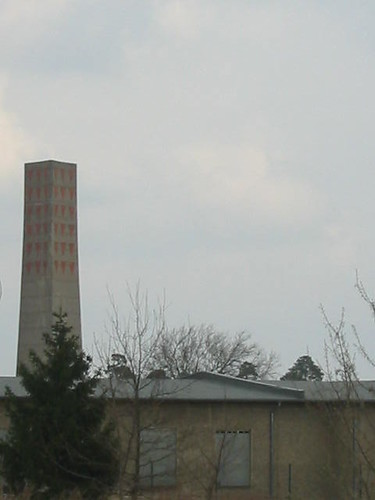building: (1, 372, 375, 500), (17, 151, 88, 380)
sky: (1, 1, 363, 367)
